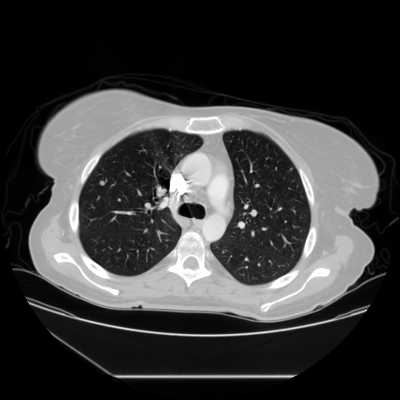nodule: (100, 180, 104, 184)
